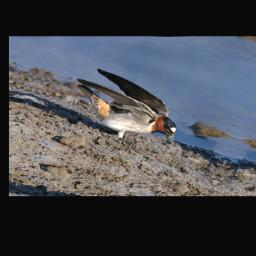Swallow: (54, 64, 194, 158)
